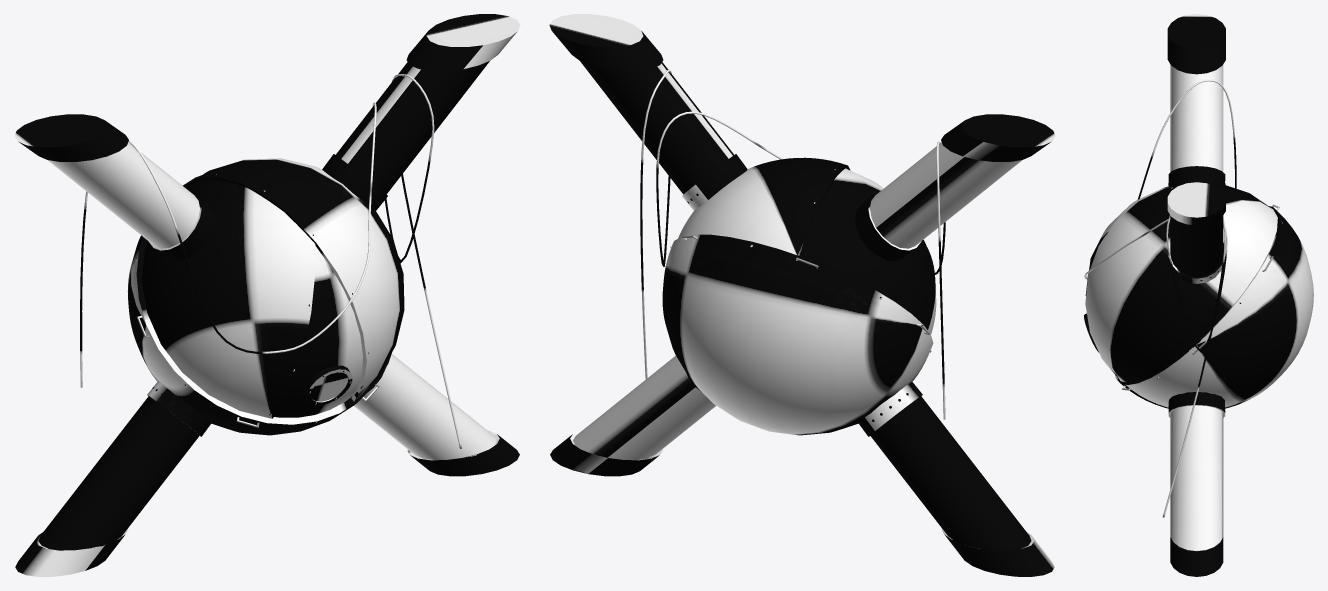
The model's file is claveau.FBX.
The picture shows the model from 3 angles, left to right: view 1: azimuth 30°, elevation 25°; view 2: azimuth 150°, elevation 25°; view 3: azimuth 270°, elevation 25°; orthographic projection. The views are drawn at different scales.
Visible parts, largest first — view 1: Sphere003; view 2: Sphere003; view 3: Sphere003.
Boxes of the visible parts, left/top/right/bottom form: Sphere003: left=14, top=14, right=520, bottom=576; Sphere003: left=549, top=14, right=1055, bottom=576; Sphere003: left=1084, top=14, right=1313, bottom=576.
Bounding box in the file's own units: 268 × 220 × 128.
